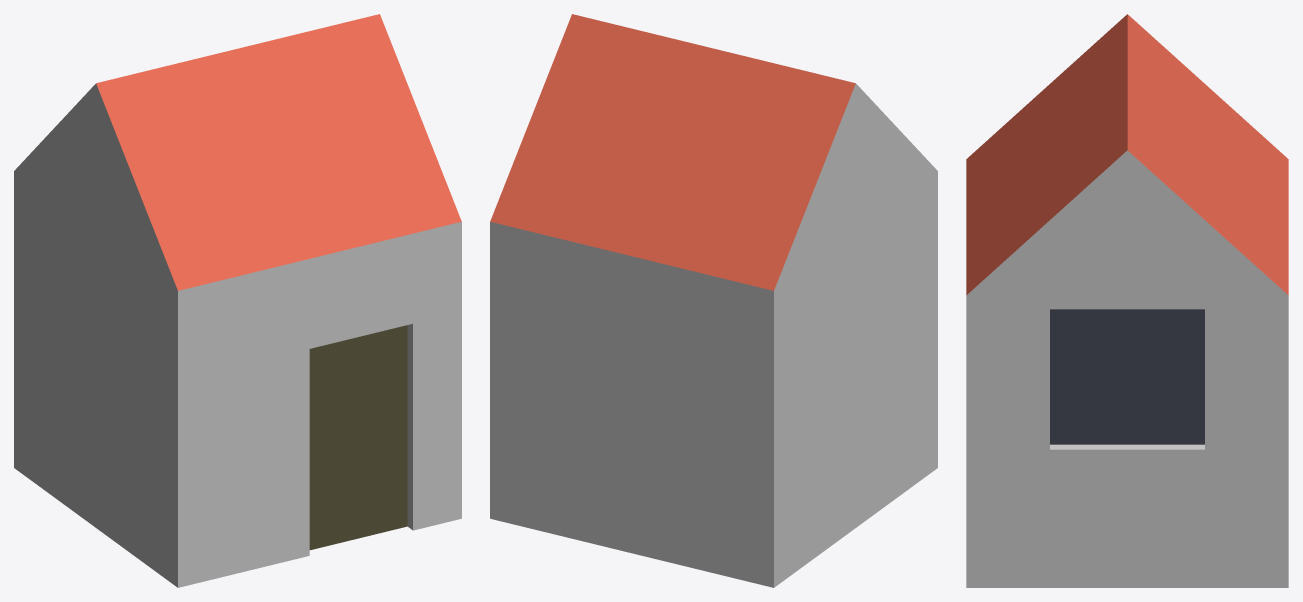
Rendered from house.glb.
3 views of the same model, side by side, from view 1: azimuth 30°, elevation 25°; view 2: azimuth 150°, elevation 25°; view 3: azimuth 270°, elevation 25° (orthographic).
Visible parts, largest first — view 1: Cube; view 2: Cube; view 3: Cube.
Part boxes in pixels (left/top/right/bottom): Cube: left=14, top=14, right=461, bottom=587; Cube: left=490, top=14, right=937, bottom=587; Cube: left=966, top=14, right=1288, bottom=587.
Bounding box in the file's own units: 2 × 2.99 × 2.
